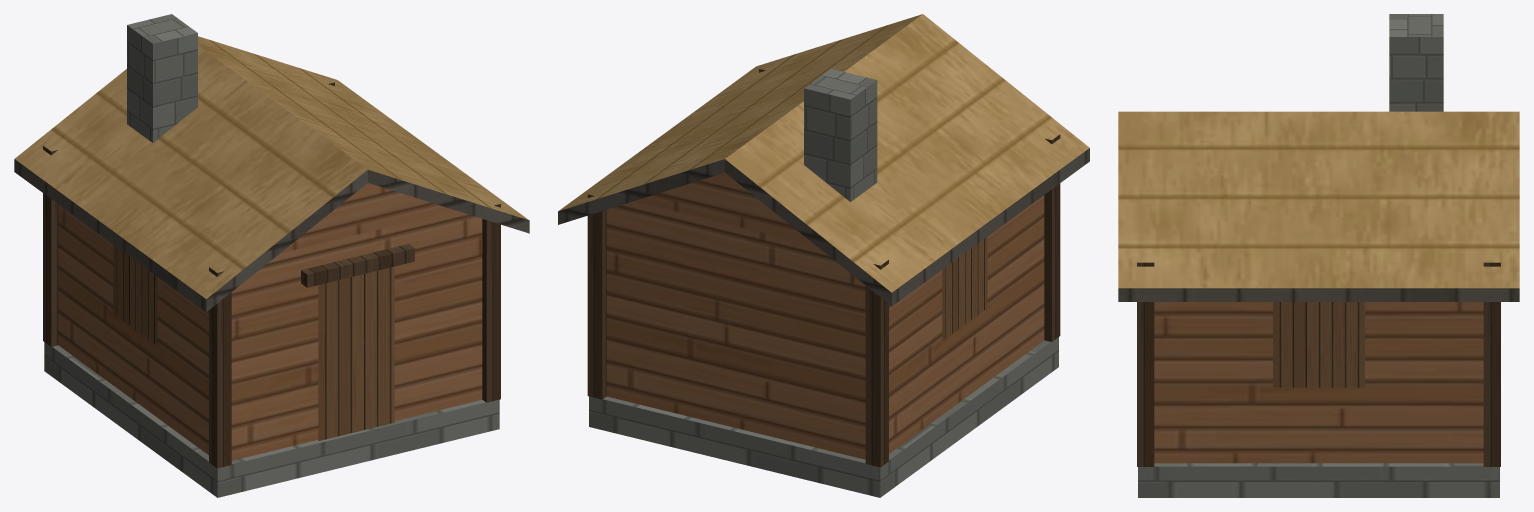
Rendered from ae_sand_wood_small_hut_lod1.glb.
The picture shows the model from 3 angles, left to right: view 1: azimuth 30°, elevation 25°; view 2: azimuth 150°, elevation 25°; view 3: azimuth 270°, elevation 25°; orthographic projection. The views are drawn at different scales.
Parts seen in each view (by area): view 1: ae_sand_wood_small_hut_lod1; view 2: ae_sand_wood_small_hut_lod1; view 3: ae_sand_wood_small_hut_lod1.
Boxes of the visible parts, left/top/right/bottom form: ae_sand_wood_small_hut_lod1: left=14, top=14, right=529, bottom=497; ae_sand_wood_small_hut_lod1: left=558, top=14, right=1089, bottom=497; ae_sand_wood_small_hut_lod1: left=1118, top=14, right=1519, bottom=497.
Size of the model in its own units: 3.6 by 3.75 by 3.7.
Materials: 1 (1 with a texture image).
